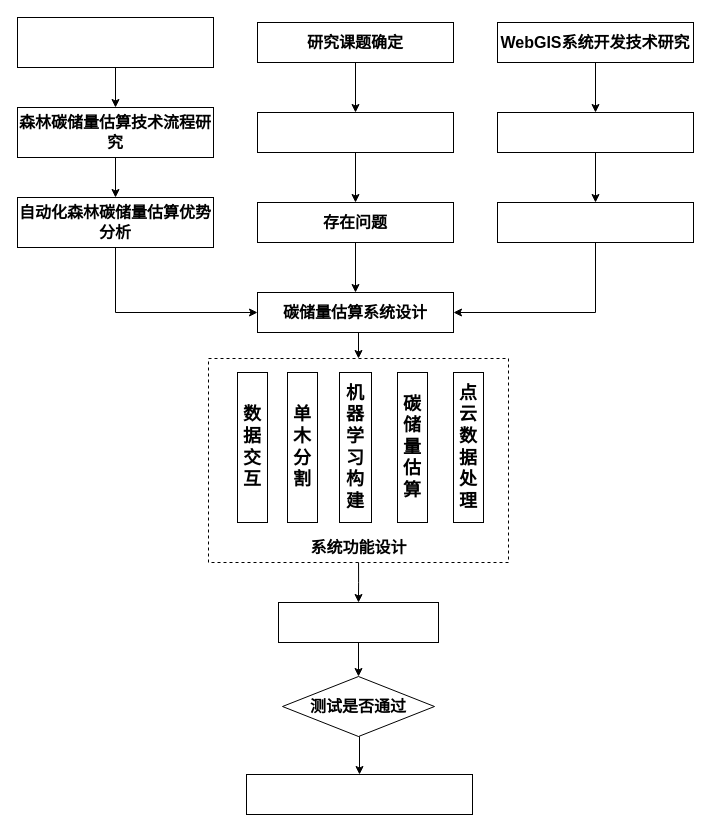
Some shapes in this 711 by 832 pixel diagram are drawn without their labels. Here are the shapes that lost their labels. From the top down, the centre of each, then its label:
the point at 115,42: 森林碳储量估算文献阅读、现状研究
the point at 355,132: 传统碳储量估算研究
the point at 595,132: 点云处理技术研究
the point at 595,222: 系统构建的技术的确定
the point at 358,622: 系统开发与实现
the point at 359,794: 森林碳储量估算系统应用
